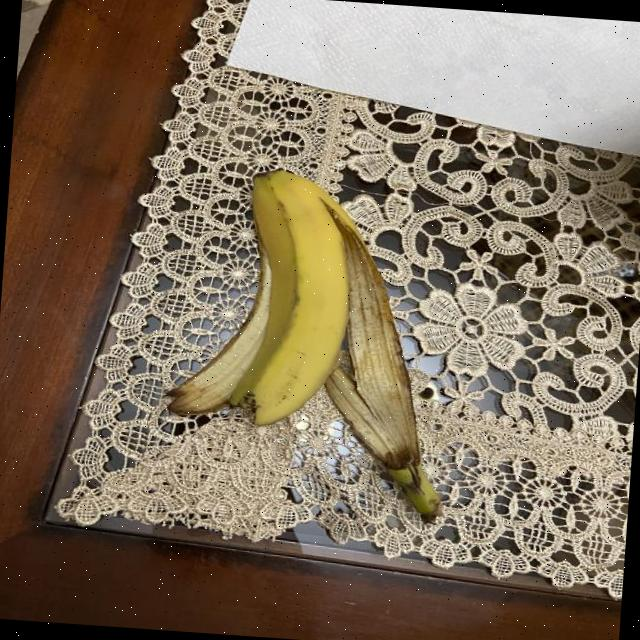banana-peel: (156, 160, 463, 519), (295, 184, 462, 516), (226, 164, 358, 430)
